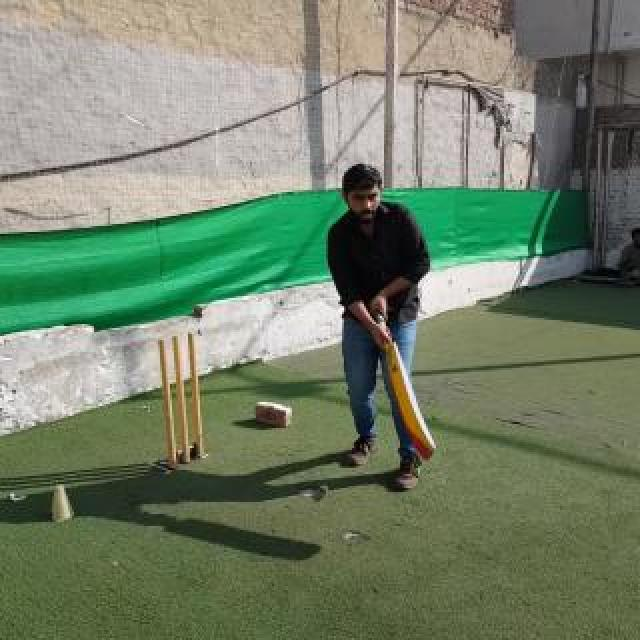bat: (373, 303, 437, 459)
